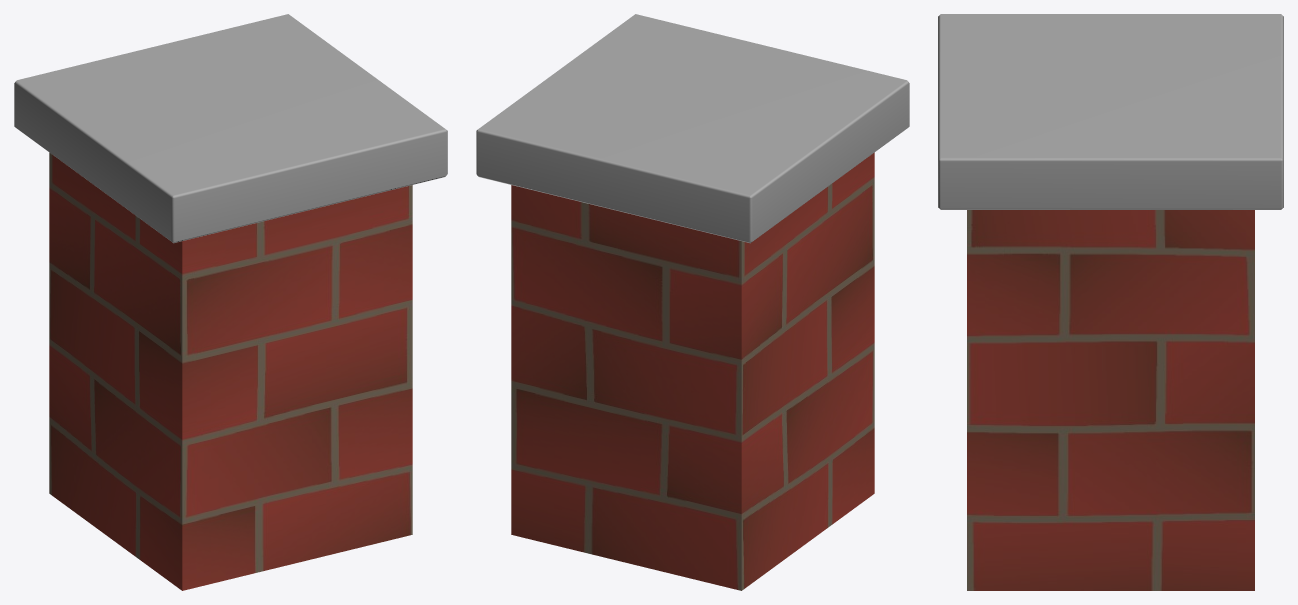
Rendered from SupermarketWallPost.fbx.
3 renders of one model, left to right at view 1: azimuth 30°, elevation 25°; view 2: azimuth 150°, elevation 25°; view 3: azimuth 270°, elevation 25°, orthographic. The views are drawn at different scales.
Visible parts, largest first — view 1: BrickWallPost_MC; view 2: BrickWallPost_MC; view 3: BrickWallPost_MC.
Boxes of the visible parts, x1,y1,x2,y2 form: BrickWallPost_MC: (14,14,447,590); BrickWallPost_MC: (476,14,909,590); BrickWallPost_MC: (938,14,1283,590).
Size of the model in its own units: 120 by 170 by 120.
